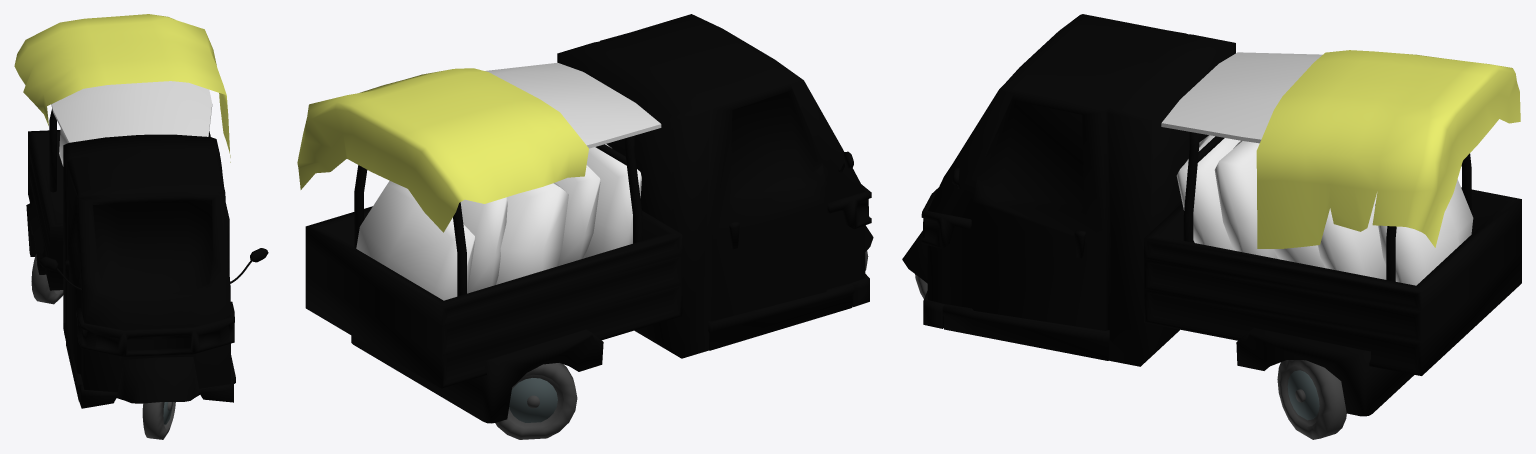
File: TruckVertex.fbx
3 views of the same model, side by side, from view 1: azimuth 30°, elevation 25°; view 2: azimuth 150°, elevation 25°; view 3: azimuth 270°, elevation 25° (orthographic). The views are drawn at different scales.
Parts seen in each view (by area): view 1: ThreeWheelerCar, ClothCover, Wheel, Wheel.002; view 2: ThreeWheelerCar, ClothCover, Sacks, Wheel.002; view 3: ThreeWheelerCar, ClothCover, Sacks, Wheel.001.
Part boxes in pixels (bbox=[...]): ThreeWheelerCar: bbox=[26, 81, 268, 408]; ClothCover: bbox=[14, 14, 230, 162]; Wheel: bbox=[142, 402, 175, 439]; Wheel.002: bbox=[31, 254, 63, 304]; ThreeWheelerCar: bbox=[305, 14, 873, 423]; ClothCover: bbox=[297, 68, 588, 232]; Sacks: bbox=[356, 144, 641, 300]; Wheel.002: bbox=[495, 363, 577, 439]; ThreeWheelerCar: bbox=[902, 14, 1521, 416]; ClothCover: bbox=[1256, 50, 1520, 248]; Sacks: bbox=[1176, 135, 1473, 285]; Wheel.001: bbox=[1277, 360, 1346, 439].
Size of the model in its own units: 3.14 by 4.16 by 2.39.
